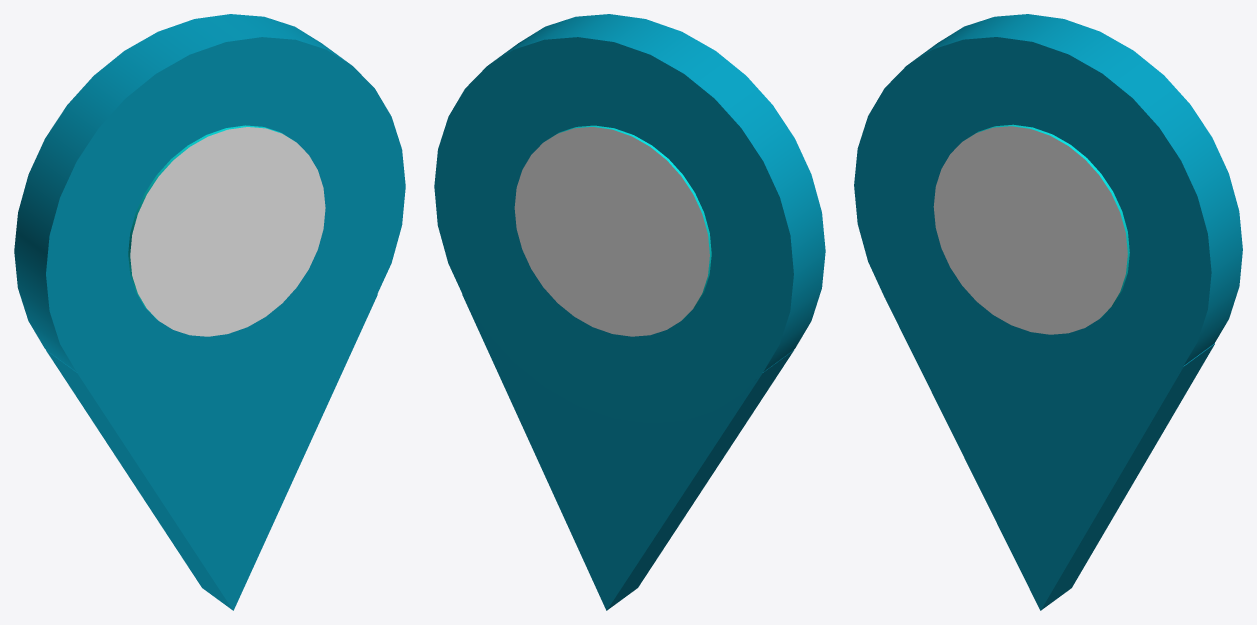
File: ubicacion.fbx
3 renders of one model, left to right at view 1: azimuth 30°, elevation 25°; view 2: azimuth 150°, elevation 25°; view 3: azimuth 330°, elevation 25°, orthographic.
Visible parts, largest first — view 1: svgMesh1; view 2: svgMesh1; view 3: svgMesh1.
Boxes of the visible parts, x1=… form: svgMesh1: x1=14, y1=14, x2=405, y2=610; svgMesh1: x1=434, y1=14, x2=825, y2=610; svgMesh1: x1=854, y1=14, x2=1242, y2=610.
Size of the model in its own units: 6.6 by 10 by 1.13.
